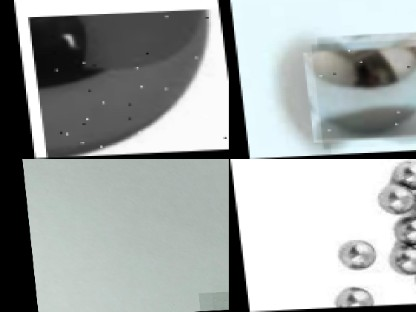ironball: (26, 10, 228, 158), (307, 41, 415, 150), (366, 176, 415, 218), (377, 236, 415, 279), (379, 158, 415, 189), (337, 238, 375, 267), (331, 284, 374, 309), (385, 215, 415, 249), (362, 144, 415, 154), (411, 267, 415, 302), (409, 177, 415, 191)
